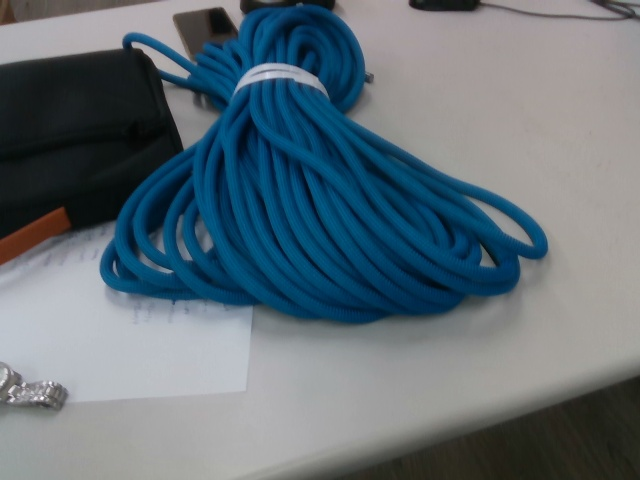rope: (97, 4, 552, 325)
